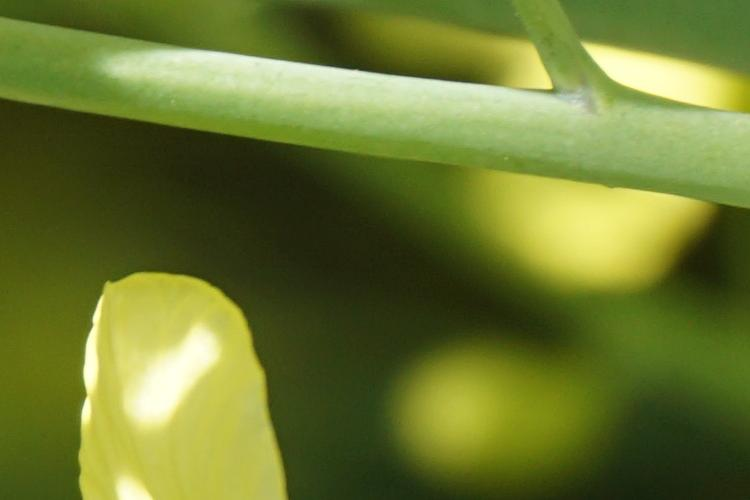yellow: (64, 269, 294, 500)
